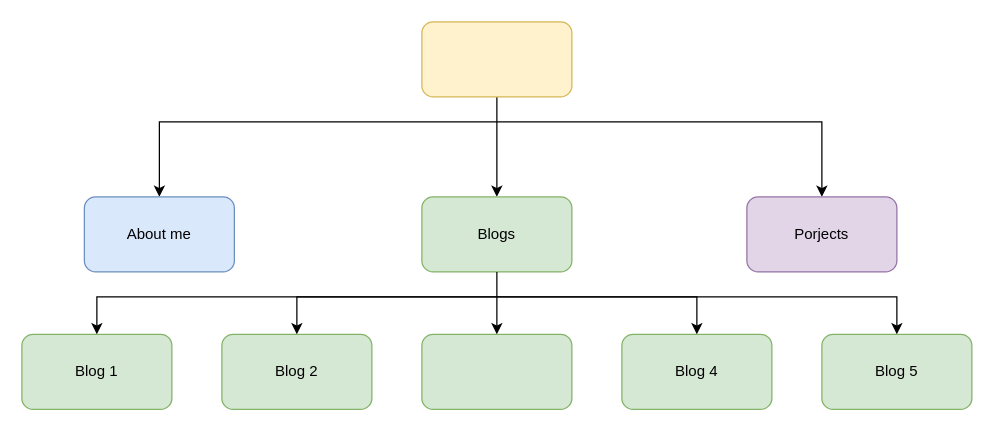
Some shapes in this 994 by 431 pixel diagram are drawn without their labels. The shapes that lost their labels are listed below. From the top down, each one's centre as x and y in pixels, then its label:
At [496,59]: "Index(Home)".
At [496,371]: "Blog 3".
